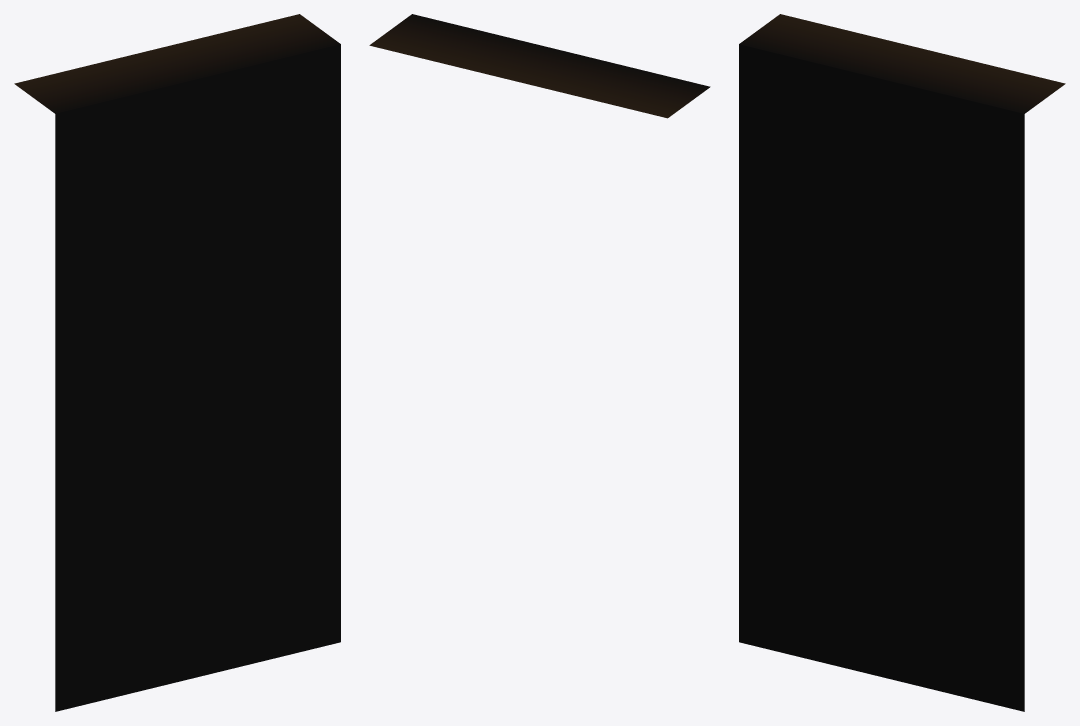
3 views of the same model, side by side, from view 1: azimuth 30°, elevation 25°; view 2: azimuth 150°, elevation 25°; view 3: azimuth 330°, elevation 25° (orthographic). The views are drawn at different scales.
Bounding box in the file's own units: 1 × 2 × 0.25.
1 material, 1 textured.
